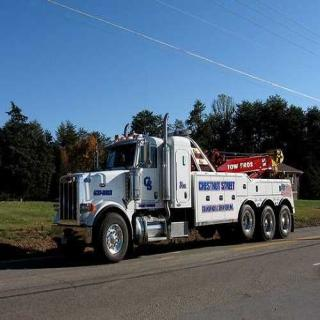Towing_truck: (49, 112, 297, 263)
